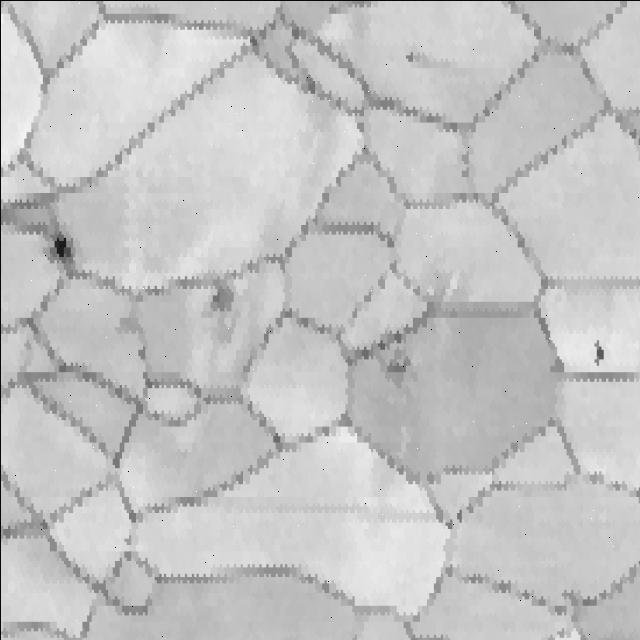good_void: (370, 325, 414, 395), (38, 226, 97, 275), (203, 276, 241, 348), (113, 306, 148, 341), (402, 45, 430, 72), (586, 336, 607, 369)
